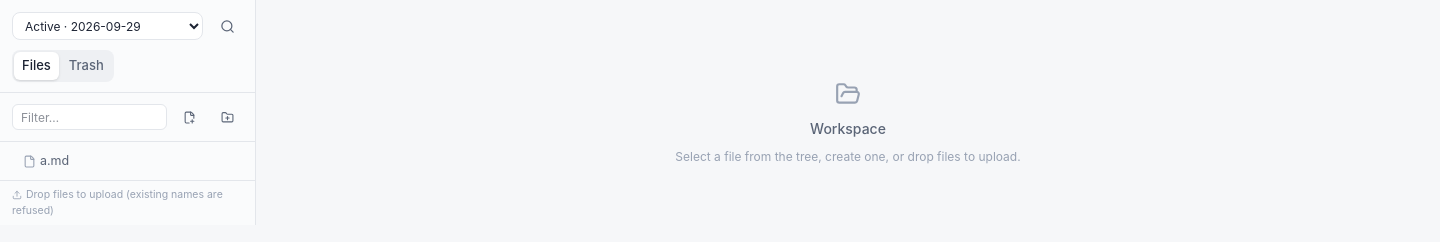
it: WorkspacePage reading › pages a long file with Show more and the continuation token
Step 1. Click the button "a.md" → (128, 161), box [6,148,249,174]
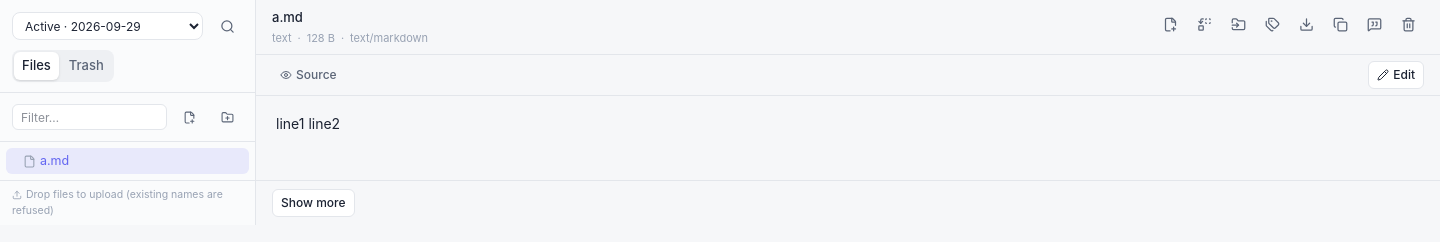
Expected: the text "line3" is not shown
Now the text "line1" is shown, box [276,115,340,132]
Step 2. Click the button "Show more" → (313, 202), box [272,188,354,216]
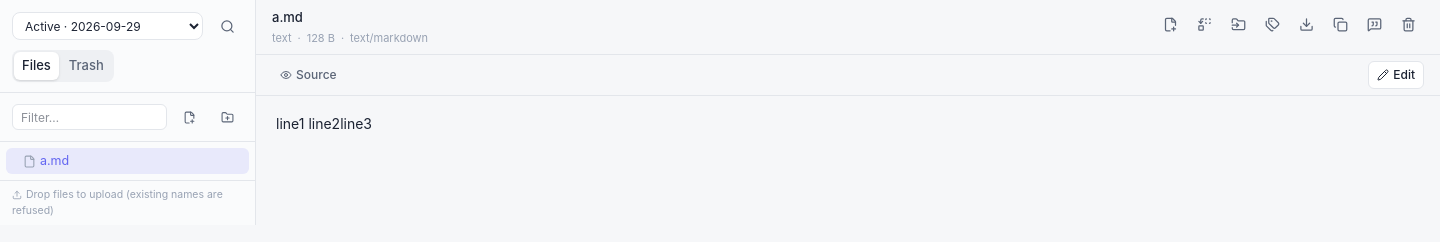
Now the text "line3" is shown, box [276,115,372,132]
Now the text "Show more" is gone
